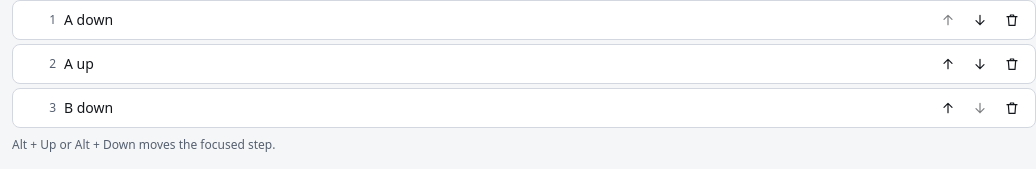
the step list › has move and remove buttons; the ends can't move further
Click the button named "Remove: A up" at (1012, 64), box [997, 49, 1027, 79]
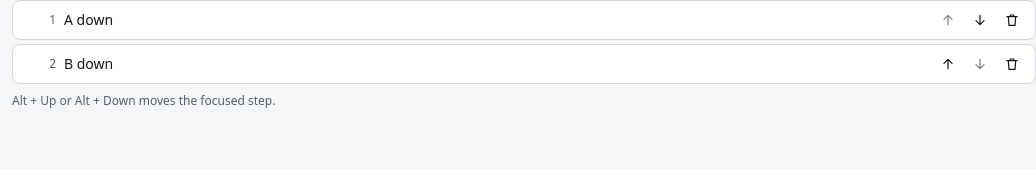
Result: the number of list items is 2 at [12, 0, 1035, 40]; [12, 44, 1035, 84]
